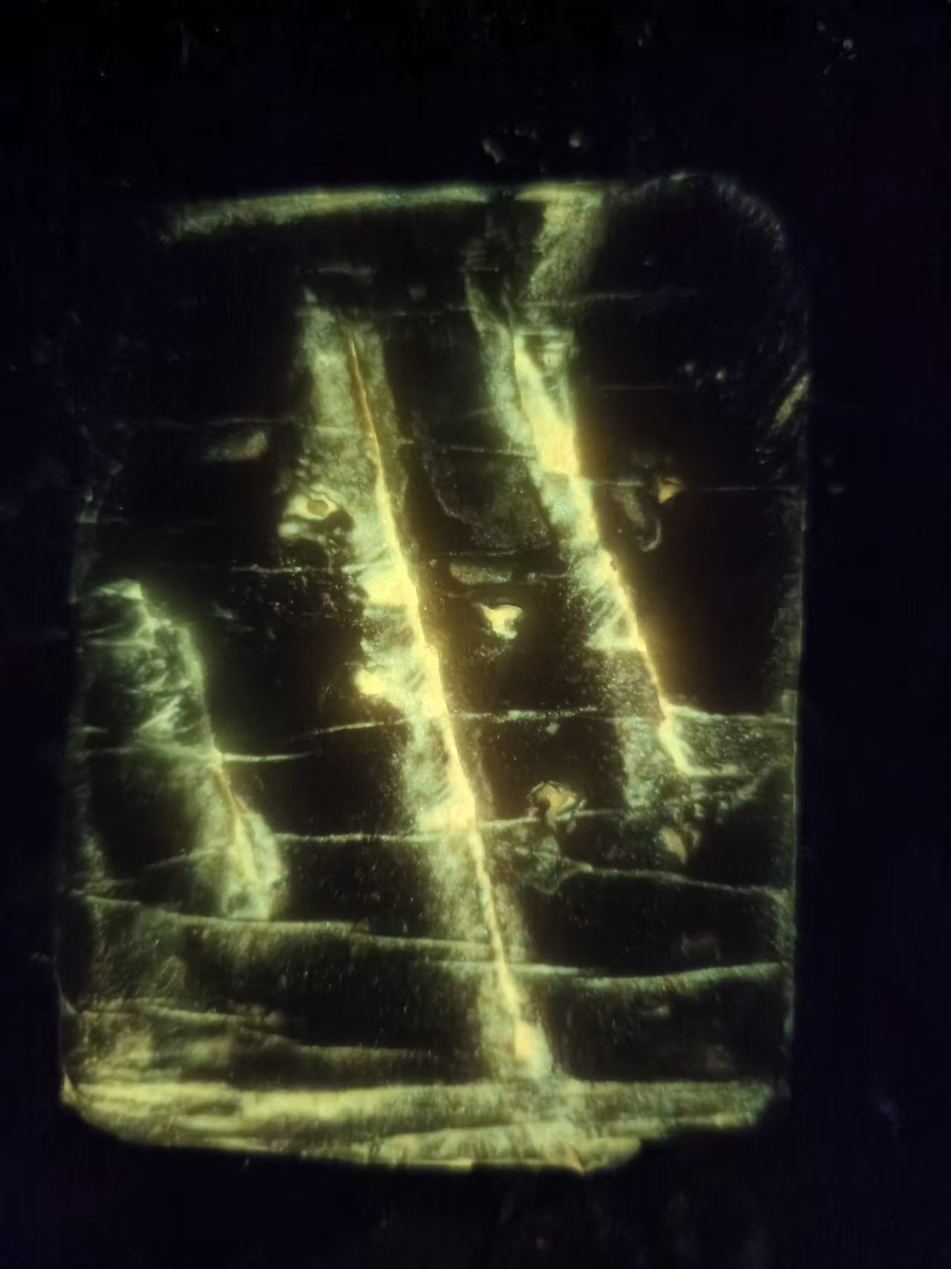Fissure: (286, 285, 575, 1090), (444, 289, 725, 832), (87, 568, 315, 953)
